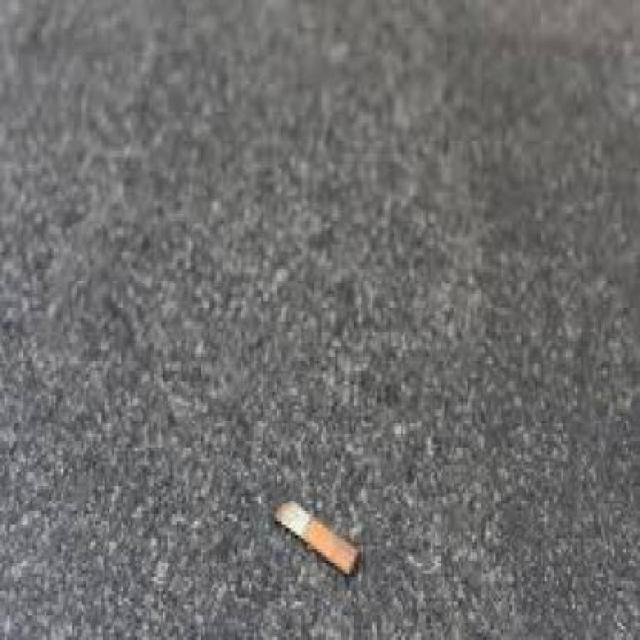cigarette: (245, 433, 377, 581)
